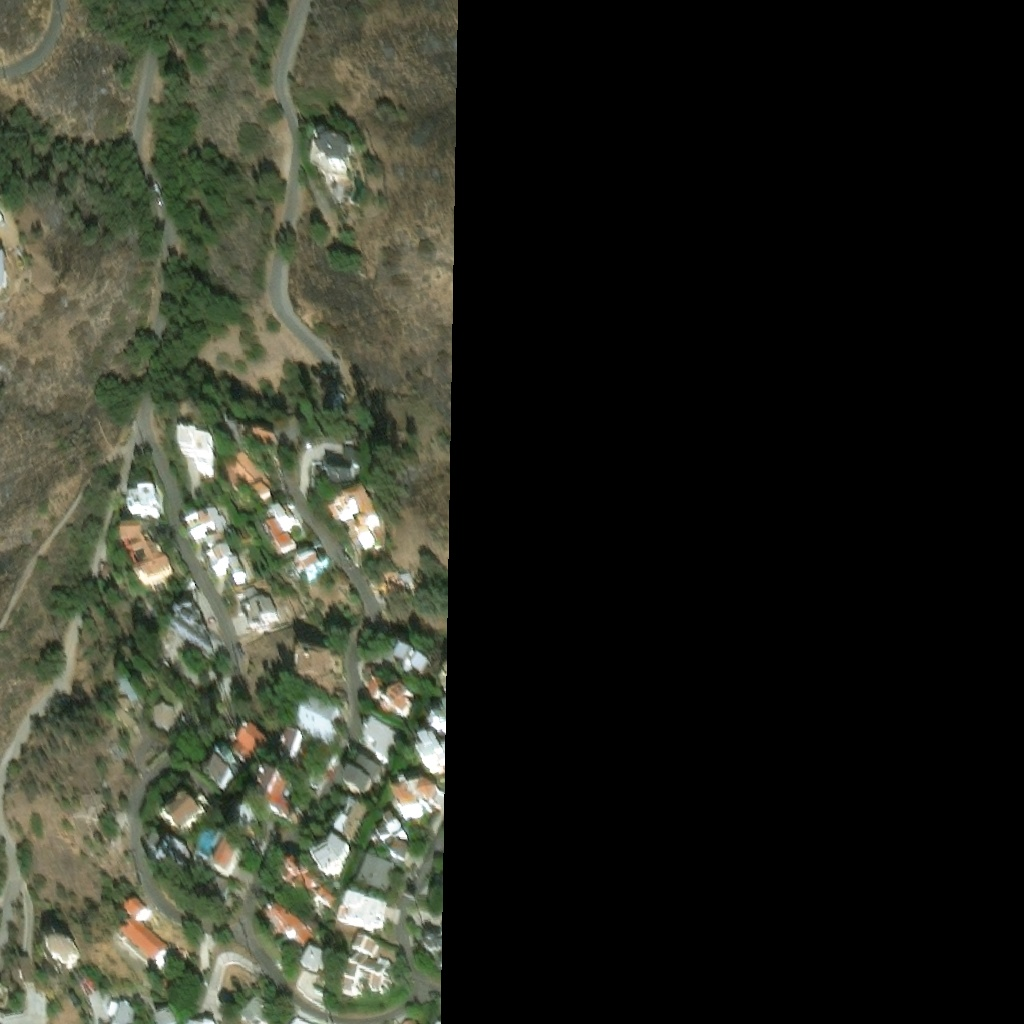0 no-damage: (114, 528, 172, 590), (121, 903, 171, 968), (330, 492, 381, 551), (347, 939, 393, 998), (255, 772, 303, 825), (391, 783, 442, 822), (267, 906, 313, 949), (338, 897, 389, 935), (186, 511, 230, 554), (296, 654, 337, 700), (298, 703, 341, 746), (199, 751, 244, 792), (283, 545, 331, 582), (357, 720, 398, 761), (312, 132, 351, 175), (263, 509, 301, 553), (182, 438, 218, 483), (225, 458, 271, 492), (237, 588, 277, 627), (175, 613, 214, 653), (163, 799, 204, 837), (312, 842, 351, 880), (231, 728, 271, 765), (322, 456, 363, 492), (333, 800, 368, 842), (359, 859, 397, 897), (372, 574, 413, 608), (281, 863, 322, 895), (209, 553, 247, 586), (48, 942, 83, 974), (161, 845, 192, 880), (216, 840, 244, 877), (396, 651, 430, 681), (280, 736, 313, 766), (376, 819, 407, 850), (130, 492, 160, 522), (419, 740, 443, 773), (386, 688, 412, 718), (208, 880, 233, 910), (303, 950, 329, 977), (343, 770, 371, 795), (355, 756, 381, 781), (153, 706, 176, 734), (121, 692, 144, 719), (199, 935, 216, 971), (236, 812, 258, 839), (242, 1001, 268, 1023), (245, 437, 277, 453), (424, 926, 440, 956), (147, 836, 167, 859), (426, 708, 443, 734), (391, 845, 409, 868), (368, 682, 386, 704), (194, 854, 216, 871), (318, 889, 337, 908), (116, 1005, 135, 1023), (0, 256, 8, 296), (344, 984, 361, 1000), (256, 488, 271, 503), (0, 985, 8, 1011), (158, 1014, 178, 1023), (108, 1004, 119, 1020), (197, 798, 211, 809), (216, 837, 225, 852), (0, 212, 4, 226)
